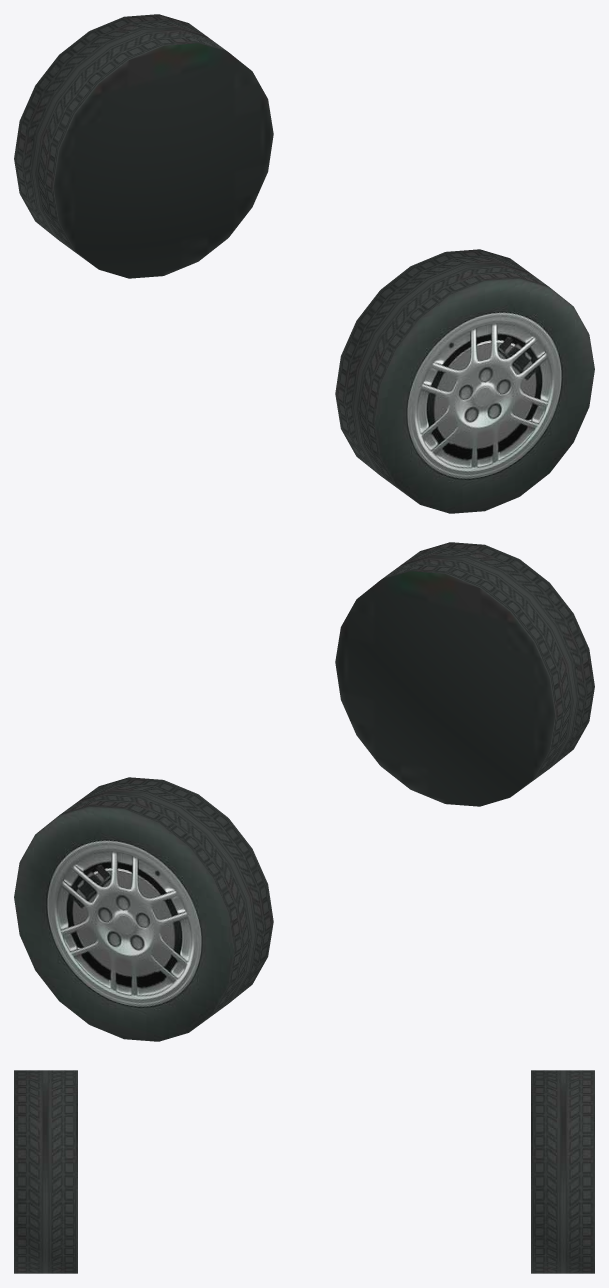
File: wheels_1x.glb
3 renders of one model, top to bottom at view 1: azimuth 30°, elevation 25°; view 2: azimuth 150°, elevation 25°; view 3: azimuth 270°, elevation 25°, orthographic. The views are drawn at different scales.
Visible parts, largest first — view 1: Object_2; view 2: Object_2; view 3: Object_2.
Part boxes in pixels (<box>): Object_2: <box>14,14,594,513</box>; Object_2: <box>14,542,594,1041</box>; Object_2: <box>14,1070,594,1273</box>.
Bounding box in the file's own units: 0.3907 × 0.3907 × 1.11.
1 material, 1 textured.
